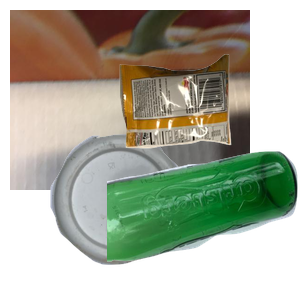cardboard: (10, 10, 250, 190)
glass: (107, 149, 300, 300)
plastic: (48, 132, 224, 300)
trash: (117, 52, 300, 193)
